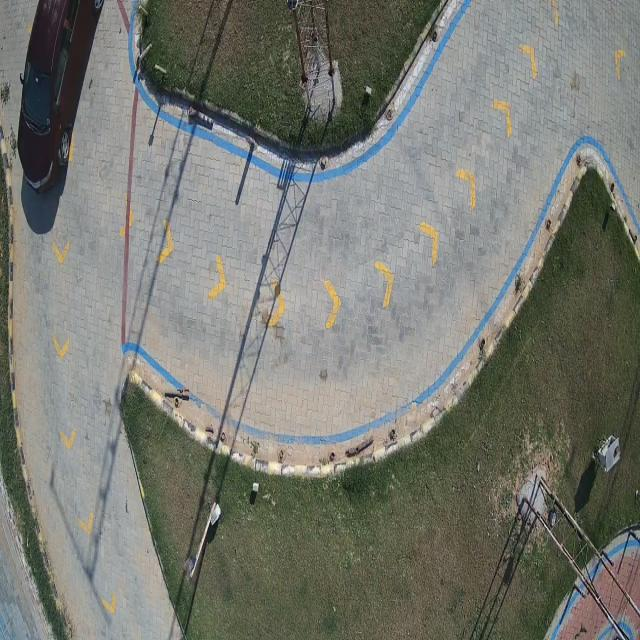car: (18, 0, 104, 191)
